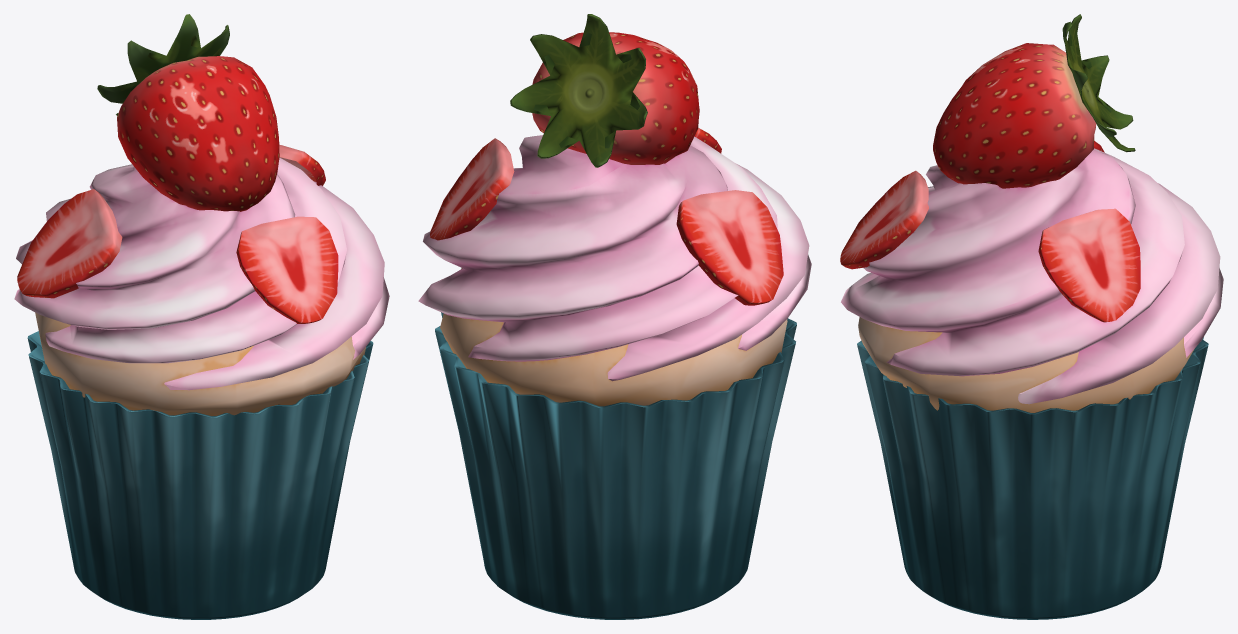
The model's file is cupCake.fbx.
The picture shows the model from 3 angles, left to right: view 1: azimuth 30°, elevation 25°; view 2: azimuth 150°, elevation 25°; view 3: azimuth 270°, elevation 25°; orthographic projection. The views are drawn at different scales.
Parts seen in each view (by area): view 1: Cupcake; view 2: Cupcake; view 3: Cupcake.
Boxes of the visible parts, x1,y1,x2,y2 form: Cupcake: (14, 14, 389, 619); Cupcake: (418, 14, 811, 619); Cupcake: (840, 14, 1223, 619).
Bounding box in the file's own units: 598 × 933 × 590.
Materials: 1 (1 with a texture image).
